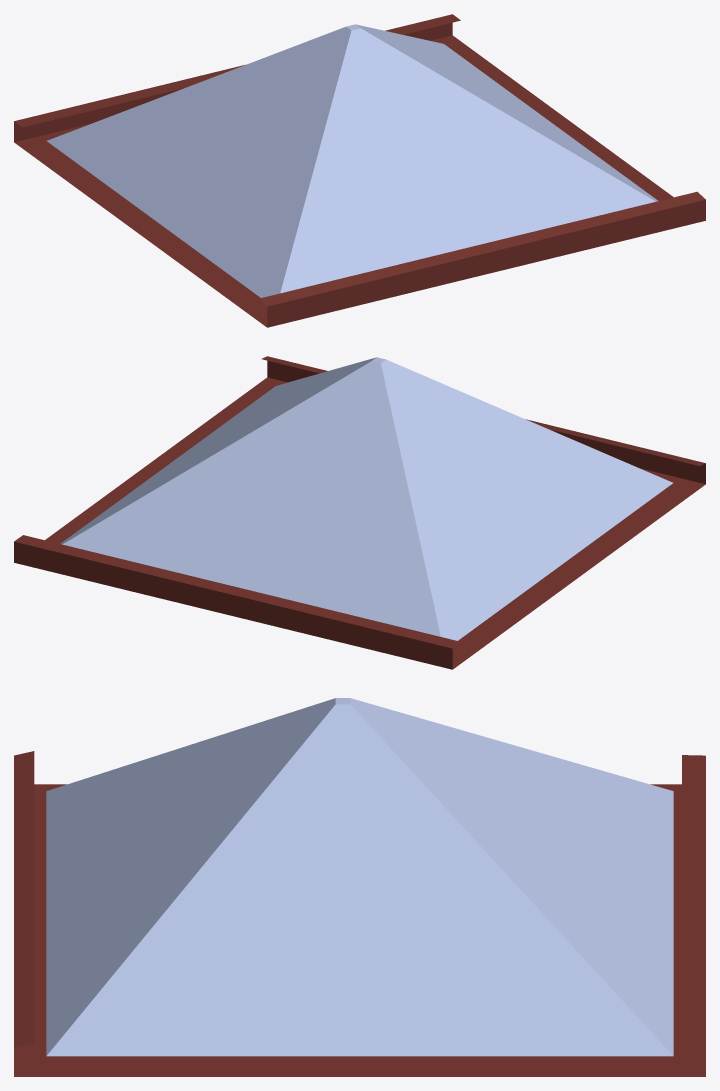
The model's file is Resin.fbx.
3 views of the same model, one above another, from view 1: azimuth 30°, elevation 25°; view 2: azimuth 150°, elevation 25°; view 3: azimuth 270°, elevation 25° (orthographic). The views are drawn at different scales.
Parts seen in each view (by area): view 1: Resin, Plate; view 2: Resin, Plate; view 3: Resin, Plate.
Boxes of the visible parts, left/top/right/bottom form: Resin: left=47, top=24, right=658, bottom=297; Plate: left=14, top=14, right=705, bottom=327; Resin: left=60, top=357, right=672, bottom=640; Plate: left=14, top=356, right=705, bottom=669; Resin: left=46, top=698, right=673, bottom=1056; Plate: left=14, top=751, right=705, bottom=1076.
Bounding box in the file's own units: 73.86 × 25.95 × 73.66.
